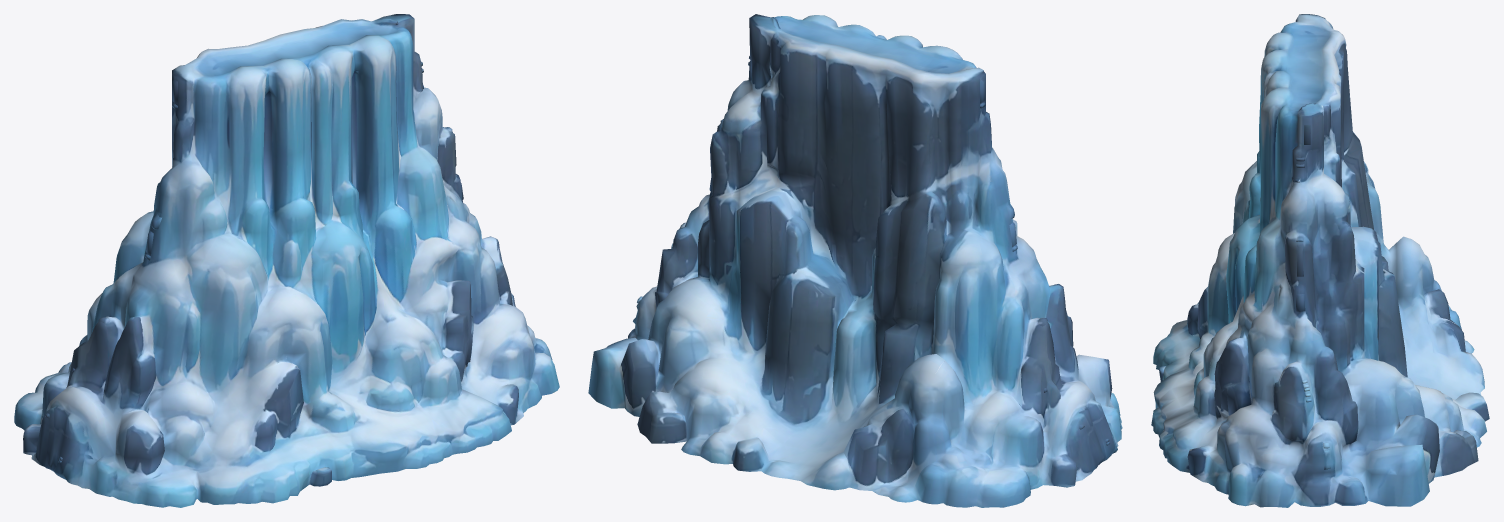
The model's file is SM_Tripo_FrostIcefallBase.glb.
The picture shows the model from 3 angles, left to right: view 1: azimuth 30°, elevation 25°; view 2: azimuth 150°, elevation 25°; view 3: azimuth 270°, elevation 25°; orthographic projection. The views are drawn at different scales.
Parts seen in each view (by area): view 1: SM_Tripo_FrostIcefallBase_LOD0; view 2: SM_Tripo_FrostIcefallBase_LOD0; view 3: SM_Tripo_FrostIcefallBase_LOD0.
Part boxes in pixels (x1,y1,x2,y2): SM_Tripo_FrostIcefallBase_LOD0: (14, 14, 559, 507); SM_Tripo_FrostIcefallBase_LOD0: (588, 14, 1122, 507); SM_Tripo_FrostIcefallBase_LOD0: (1151, 14, 1489, 507).
Bounding box in the file's own units: 16.17 × 12 × 10.74.
1 material, 1 textured.
